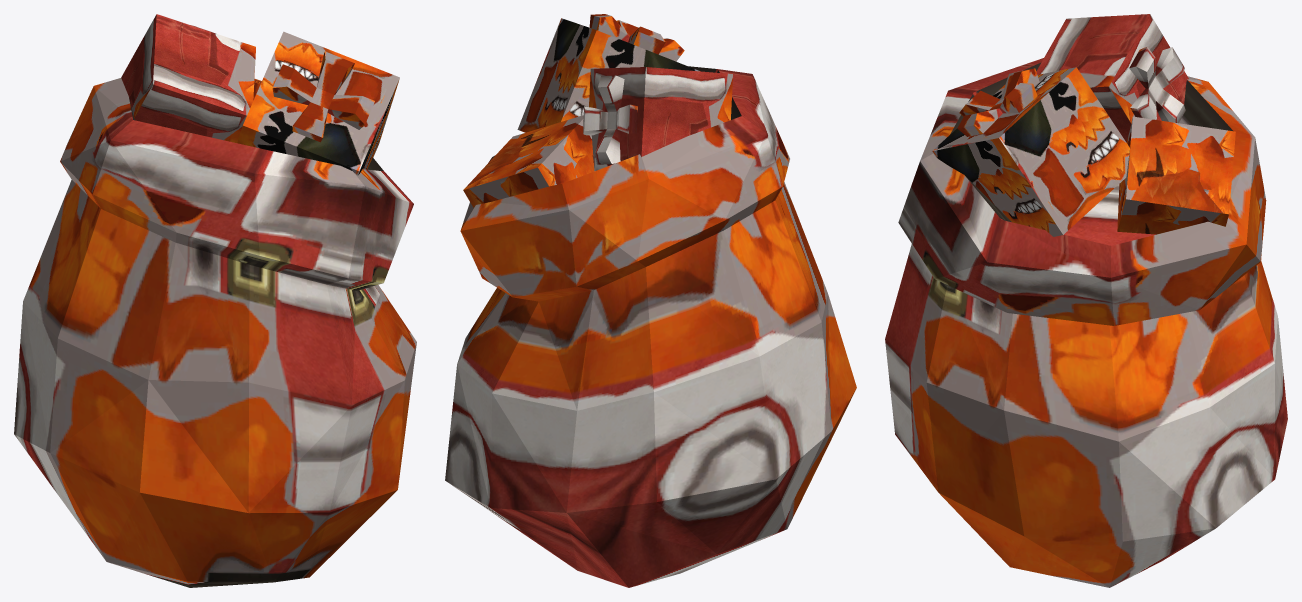
File: Bison_santaBag.obj
3 renders of one model, left to right at view 1: azimuth 30°, elevation 25°; view 2: azimuth 150°, elevation 25°; view 3: azimuth 270°, elevation 25°, orthographic. The views are drawn at different scales.
Visible parts, largest first — view 1: Bison_santaBag_tri; view 2: Bison_santaBag_tri; view 3: Bison_santaBag_tri.
Boxes of the visible parts, x1,y1,x2,y2 form: Bison_santaBag_tri: (14,14,416,587); Bison_santaBag_tri: (445,14,856,587); Bison_santaBag_tri: (885,14,1287,587).
Size of the model in its own units: 0.8268 by 1.23 by 0.8448.
Materials: 1 (1 with a texture image).
